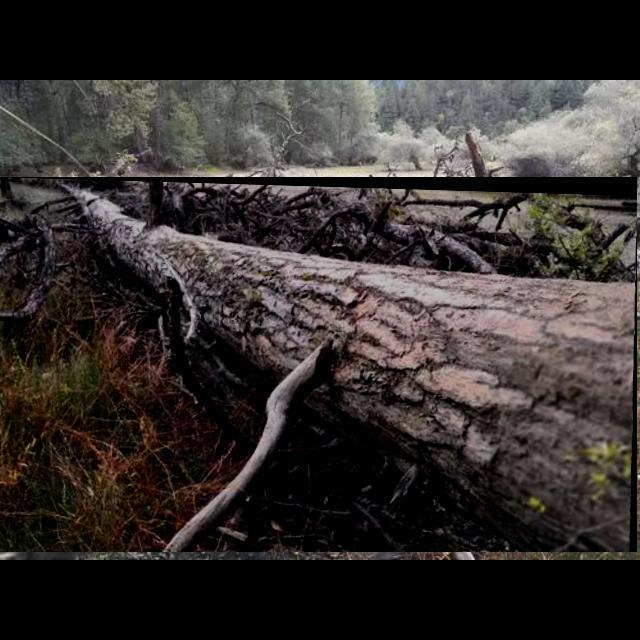fallen_tree: (0, 177, 638, 553)
